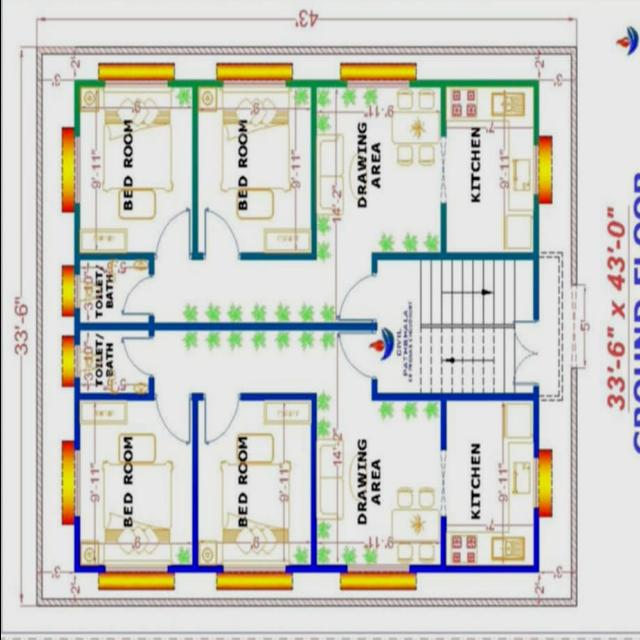column: (362, 241, 384, 270), (302, 239, 322, 268), (364, 383, 385, 408), (66, 69, 86, 94), (523, 242, 541, 268), (525, 72, 543, 98), (304, 71, 322, 95), (302, 384, 320, 408), (305, 556, 322, 580), (184, 74, 202, 96), (526, 556, 541, 580), (523, 387, 540, 408), (67, 388, 85, 406), (70, 559, 86, 579), (186, 558, 201, 578), (70, 245, 84, 265), (436, 560, 450, 580)
